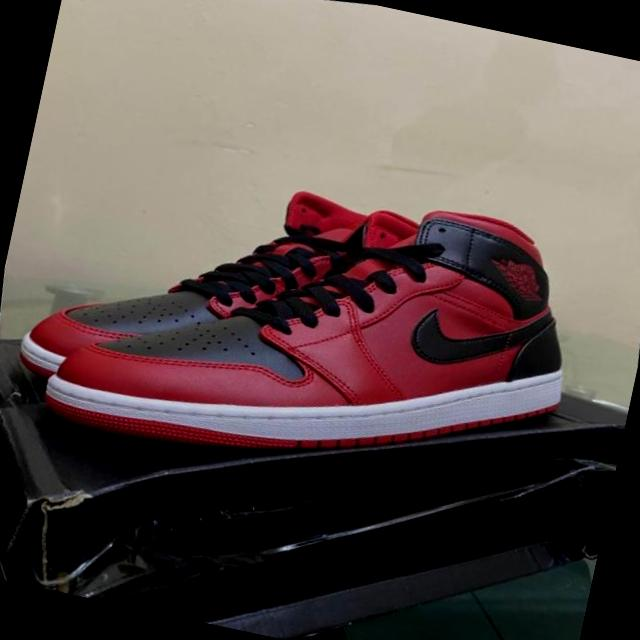nike_original_jordan: (6, 112, 611, 540), (0, 121, 444, 454)
